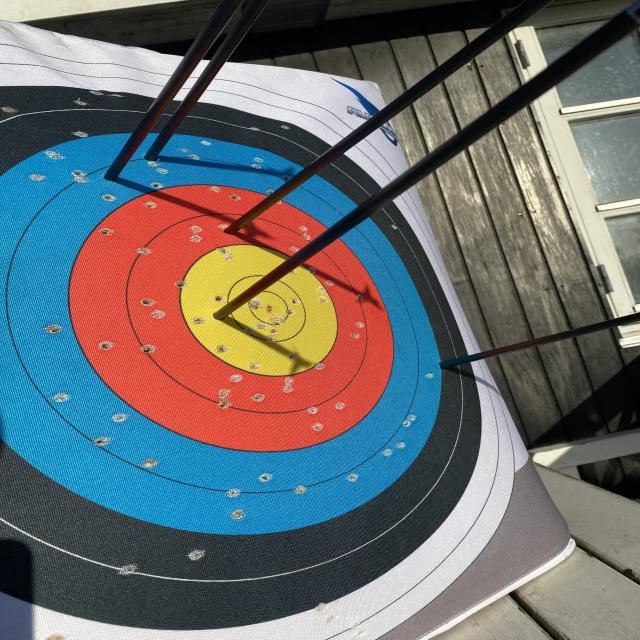Arrow_Black: (437, 348, 458, 382)
Arrow_Blue: (132, 138, 172, 179), (102, 160, 127, 192)
Arrow_Red: (210, 219, 250, 242)
Arrow_Yellow: (200, 305, 237, 332)
